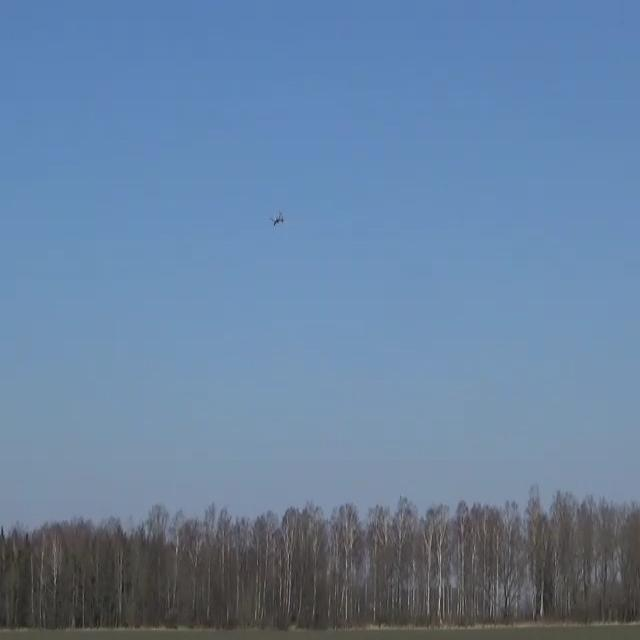drone: (270, 210, 283, 226)
